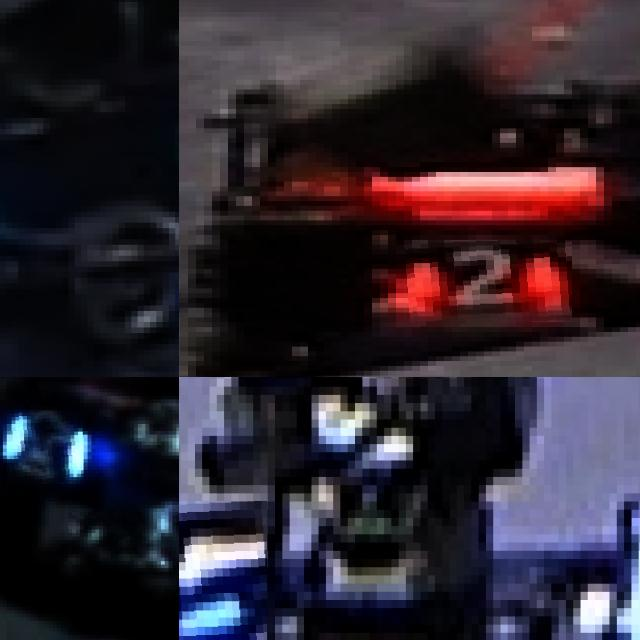B4: (179, 501, 267, 640)
Bs: (7, 410, 83, 484)
R2: (396, 240, 572, 327)
